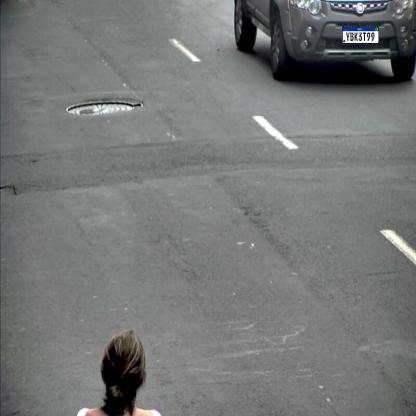PlacaM: (342, 26, 379, 44)
